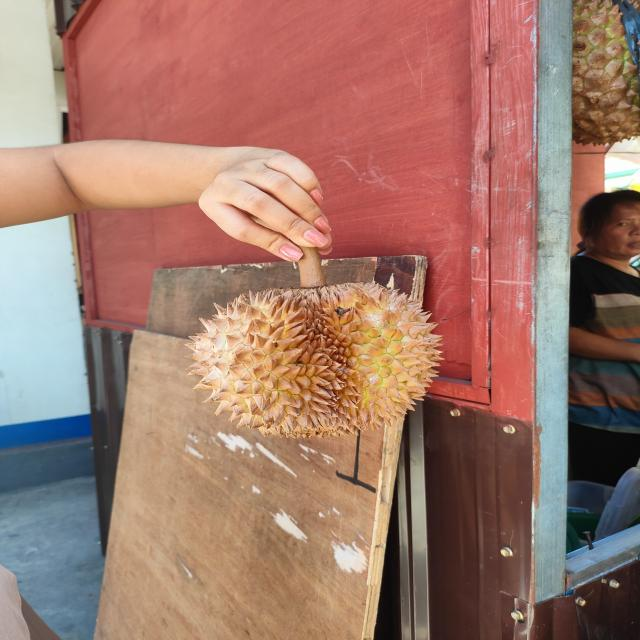mature: (183, 281, 446, 440)
